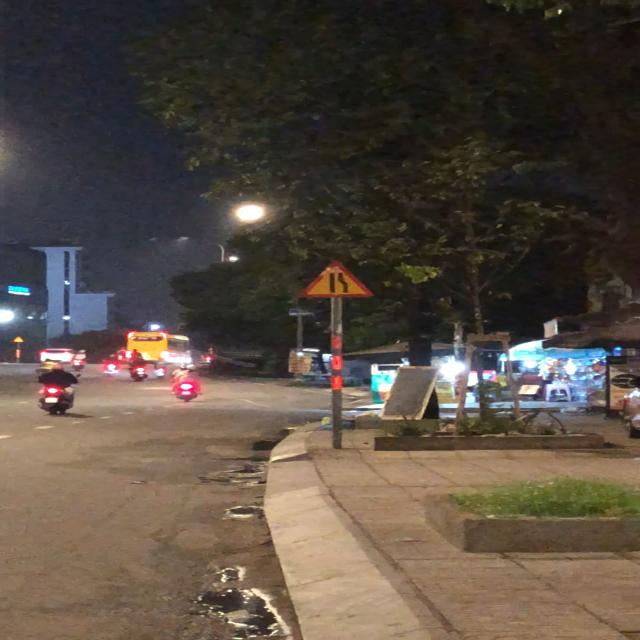Bien bao duong bi thu hep: (288, 253, 382, 301)
